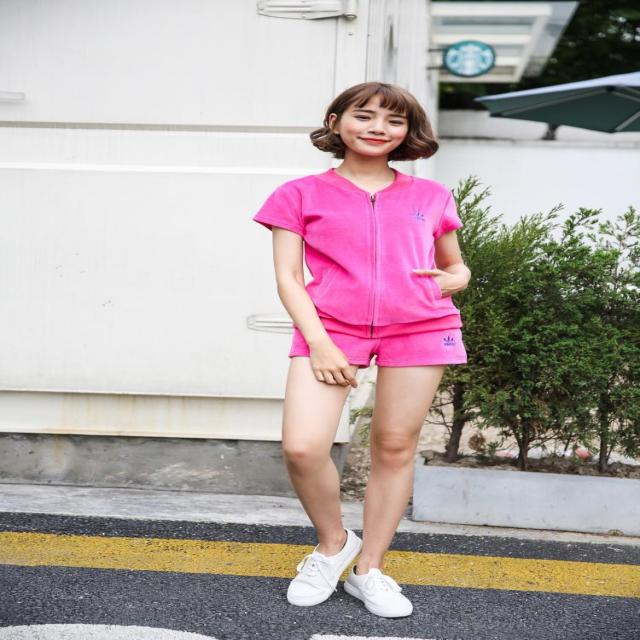short sleeve top: (252, 169, 465, 337)
shorts: (289, 303, 468, 367)
